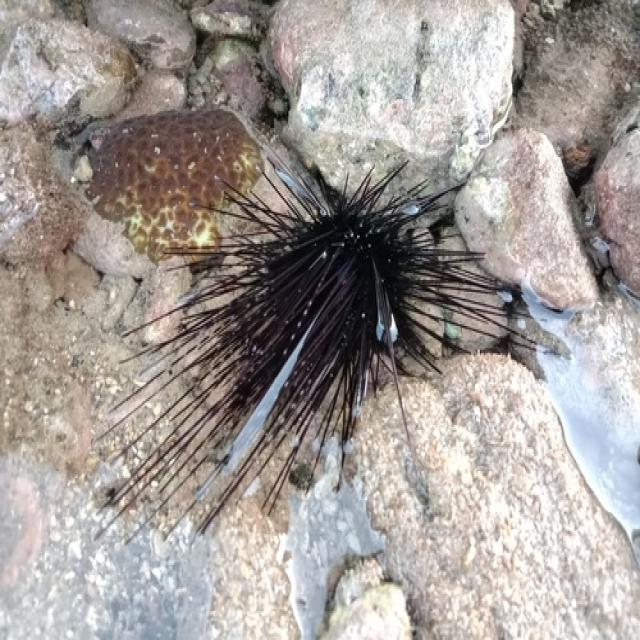Urchin: (91, 149, 544, 517)
